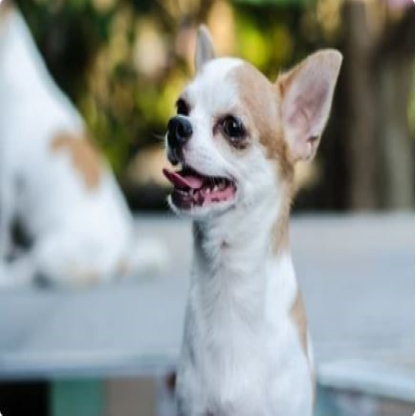chihuahua: (159, 23, 344, 415)
